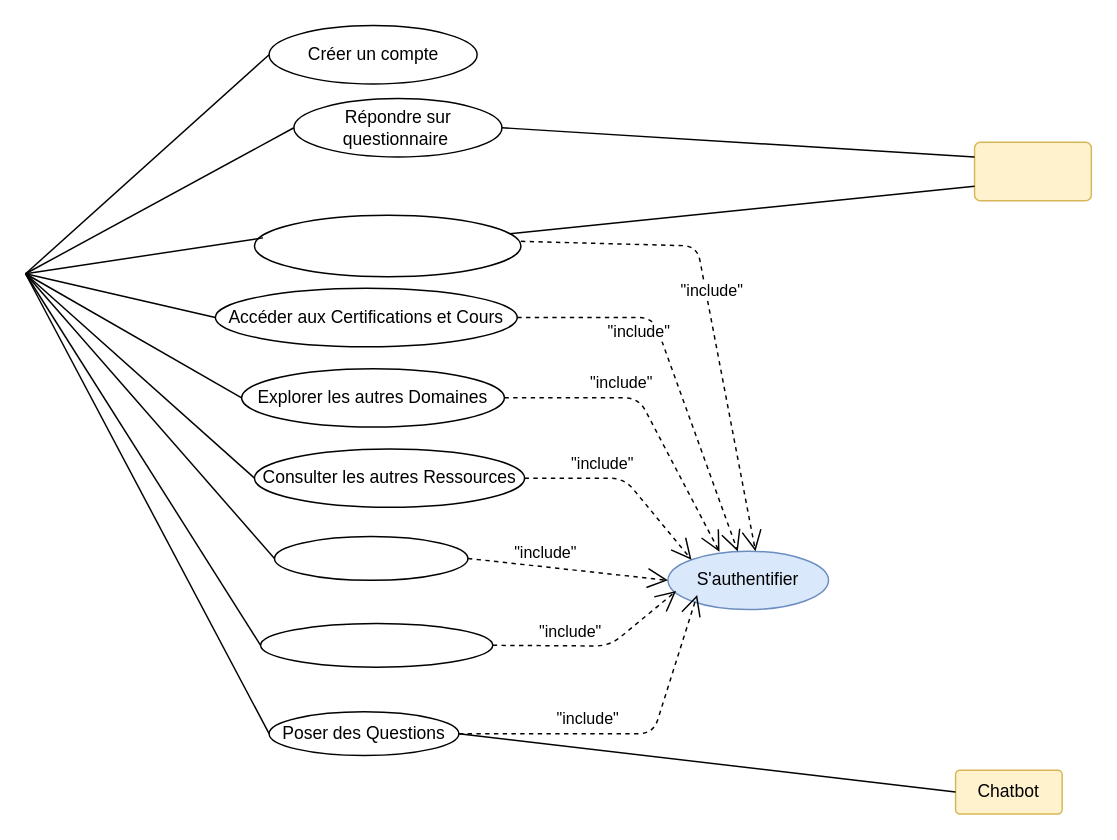
This 1117x840 diagram has some shape labels left out. Here are the shapes that lost their labels. From the top down, the box of each, then its label:
(973, 141, 1091, 201): API de Prédiction AI
(253, 214, 521, 277): Obtenir une Prédiction de domaine et niveau
(273, 535, 468, 580): Ajouter Des Commentaires
(259, 622, 493, 667): Recevoir des Notifications
